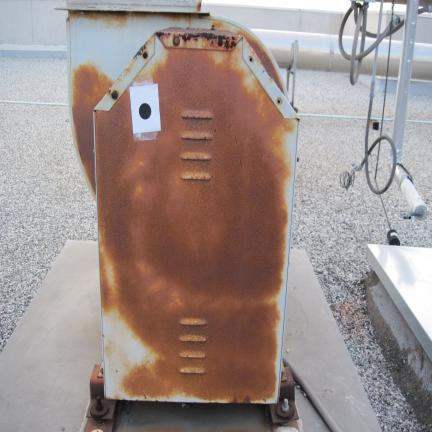karat: (100, 112, 280, 294), (134, 297, 275, 395), (161, 56, 258, 111)
